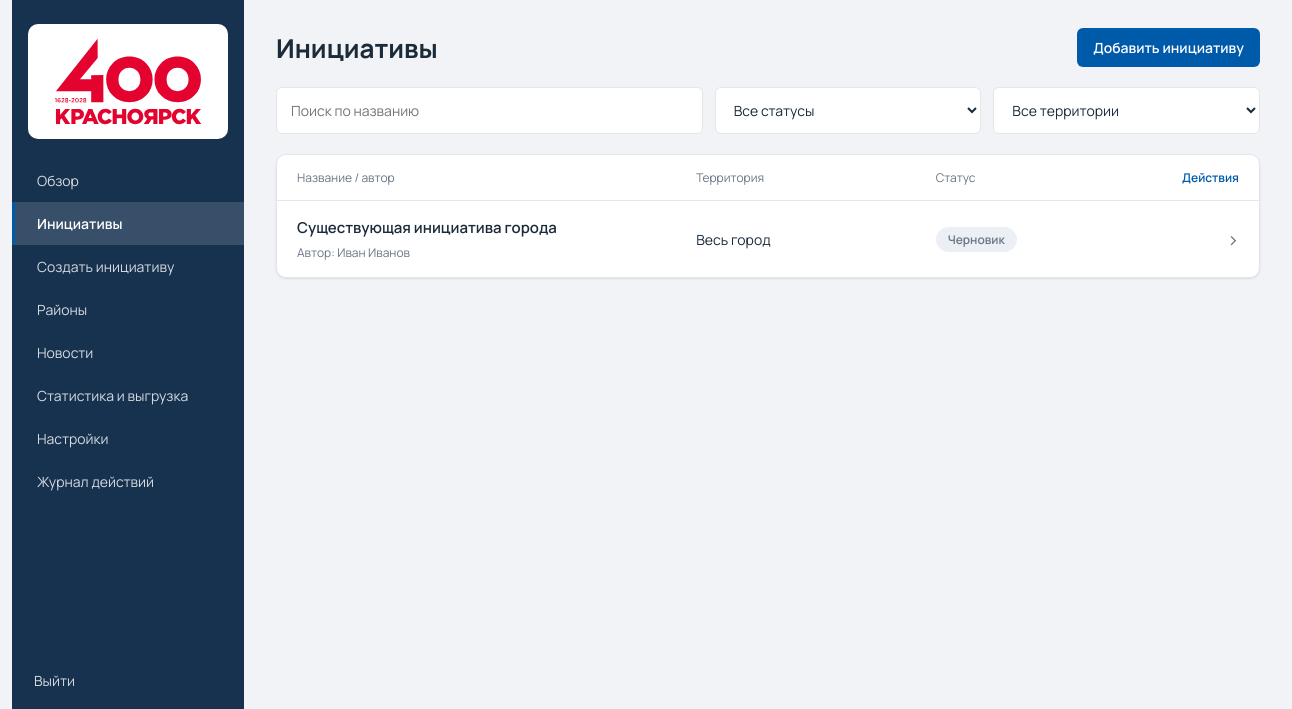
Test: admin initiatives › opens the edit page from a list row and loads the initiative
Click the button "Существующая инициатива города". click: click(768, 239)
box: left=277, top=201, right=1259, bottom=277
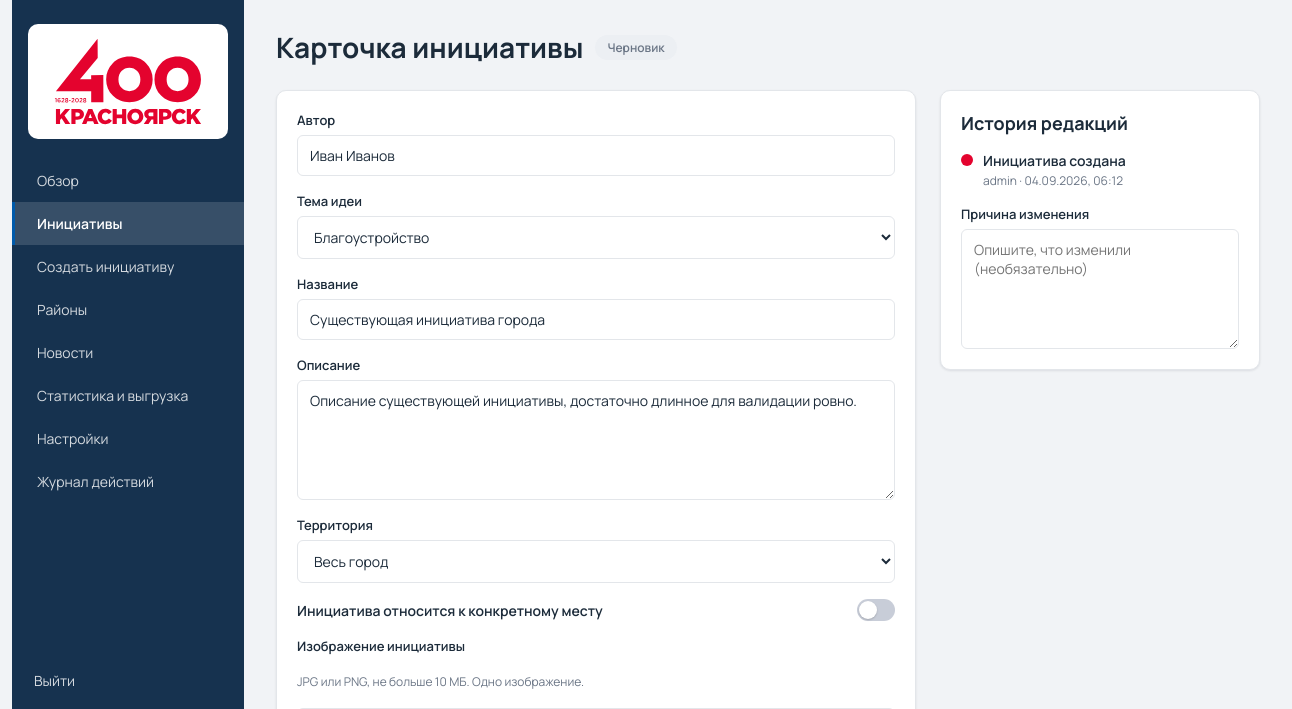
Expected: the heading "Карточка инициативы" is shown, left=276, top=28, right=584, bottom=66
Expected: the field labelled "Название" holds "Существующая инициатива города", left=297, top=299, right=895, bottom=340
